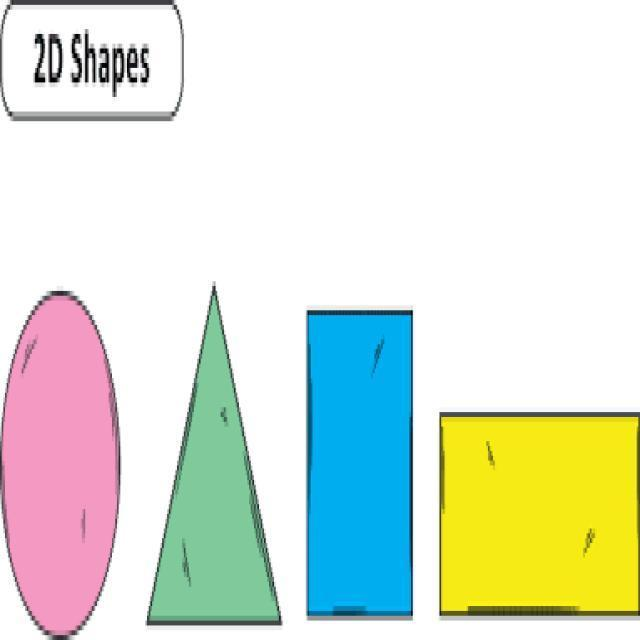circle: (0, 280, 140, 639)
square: (434, 369, 637, 635), (291, 290, 427, 638)
triangle: (150, 287, 291, 640)
